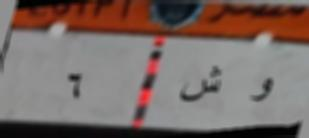6: (62, 69, 87, 104)
sheen: (176, 58, 225, 113)
waw: (245, 73, 275, 105)
